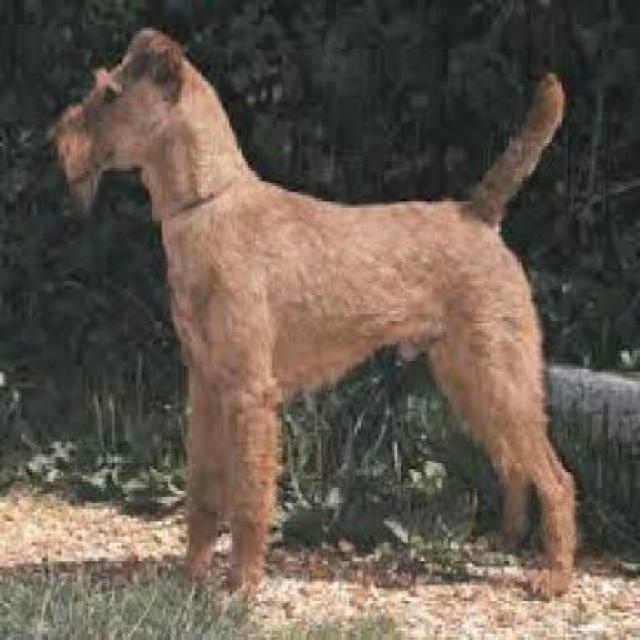animals: (37, 20, 609, 640)
